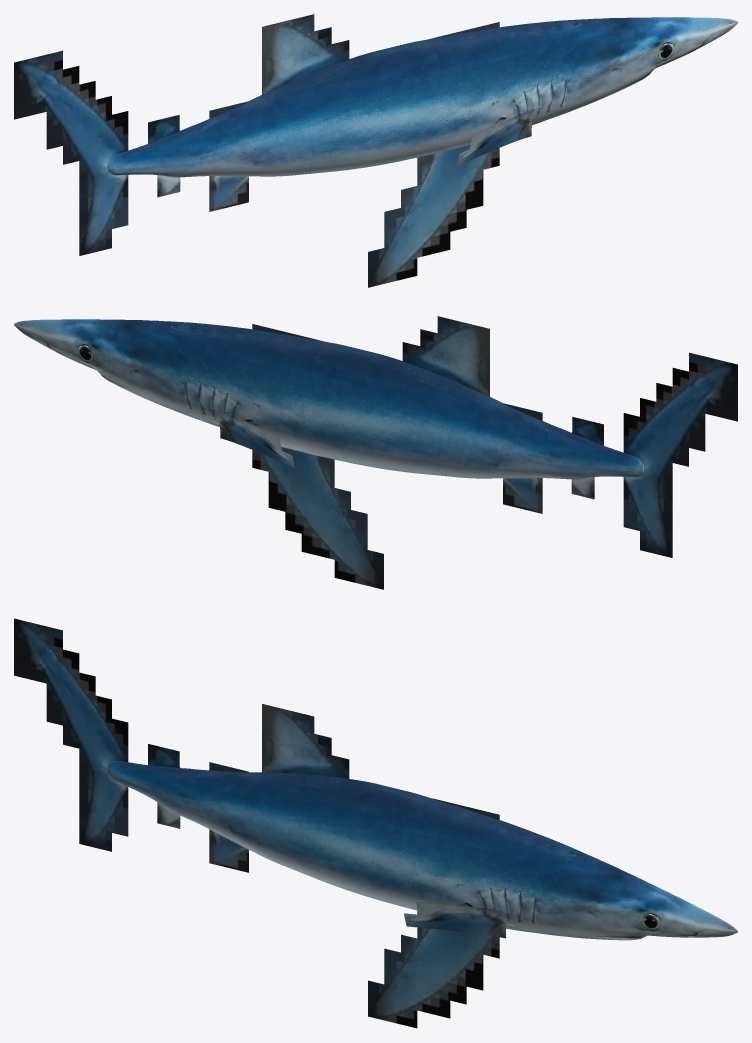
Rendered from real-prionace_glauca.glb.
3 renders of one model, top to bottom at view 1: azimuth 30°, elevation 25°; view 2: azimuth 150°, elevation 25°; view 3: azimuth 330°, elevation 25°, orthographic.
Visible parts, largest first — view 1: prionace_glauca; view 2: prionace_glauca; view 3: prionace_glauca.
Boxes of the visible parts, x1,y1,x2,y2 form: prionace_glauca: [14, 14, 737, 287]; prionace_glauca: [14, 316, 737, 589]; prionace_glauca: [14, 618, 737, 1028].
Bounding box in the file's own units: 3.36 × 1.38 × 0.4545.
Materials: 1 (1 with a texture image).
